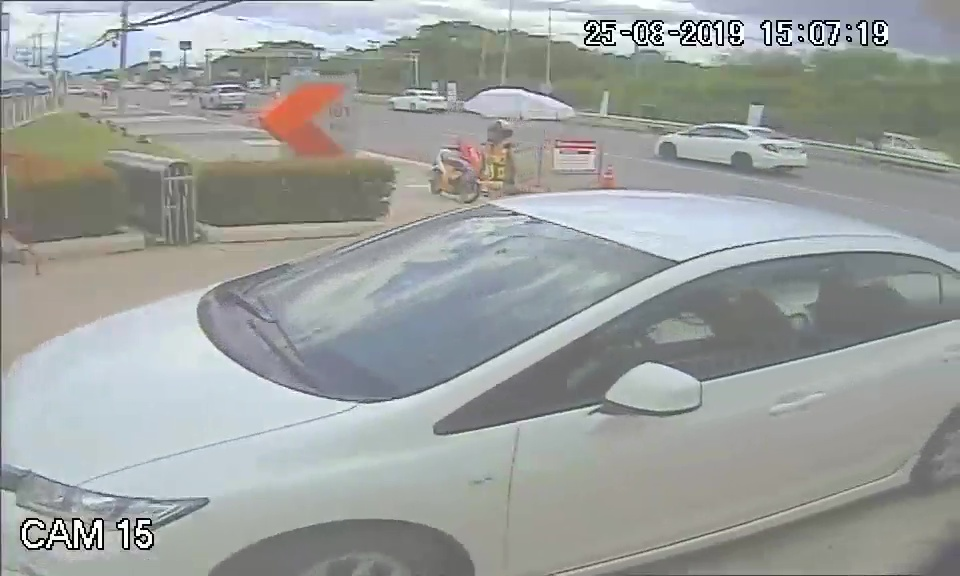sedan: (14, 188, 949, 548)
